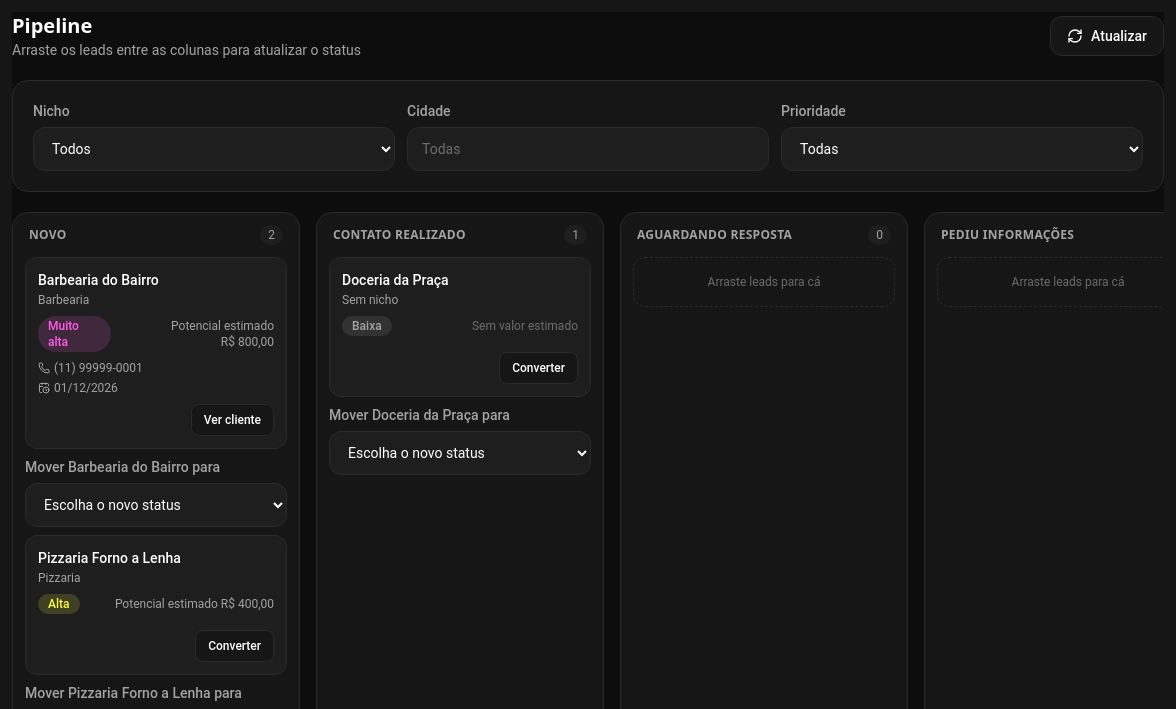
Test: PipelinePage — conversão › preserva leads e vínculos conhecidos e permite retry quando a consulta falha
Later steps or results of the test are not shown.
Expected: the element "Barbearia do Bairro" is shown, left=25, top=257, right=287, bottom=449
Expected: the link "Ver cliente" is shown, left=191, top=404, right=274, bottom=436
Click the button "Atualizar" at (1107, 36), box left=1050, top=16, right=1164, bottom=56
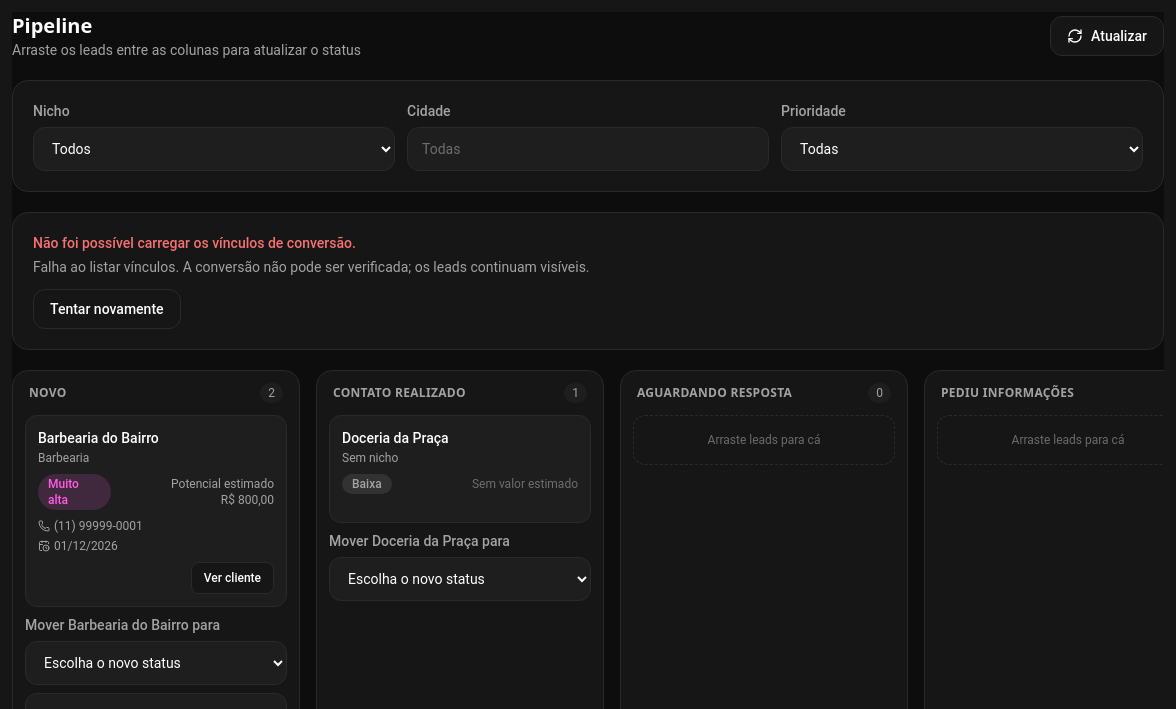
Now the message shows "Não foi possível carregar os vínculos de conversão.", box left=33, top=235, right=356, bottom=251
Now the message shows "Falha ao listar vínculos.", box left=33, top=259, right=179, bottom=275
Now the message shows "A conversão não pode ser verificada; os leads continuam visíveis.", box left=179, top=259, right=590, bottom=275
